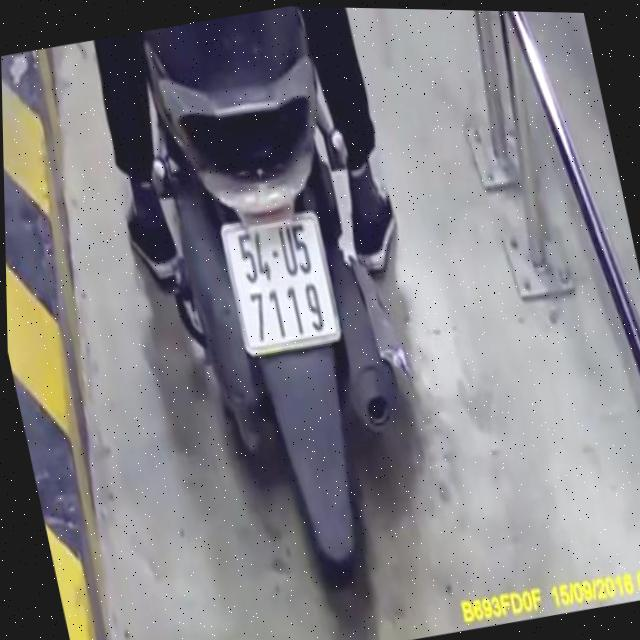motorcycle: (111, 9, 466, 613)
plate: (213, 202, 349, 365)
